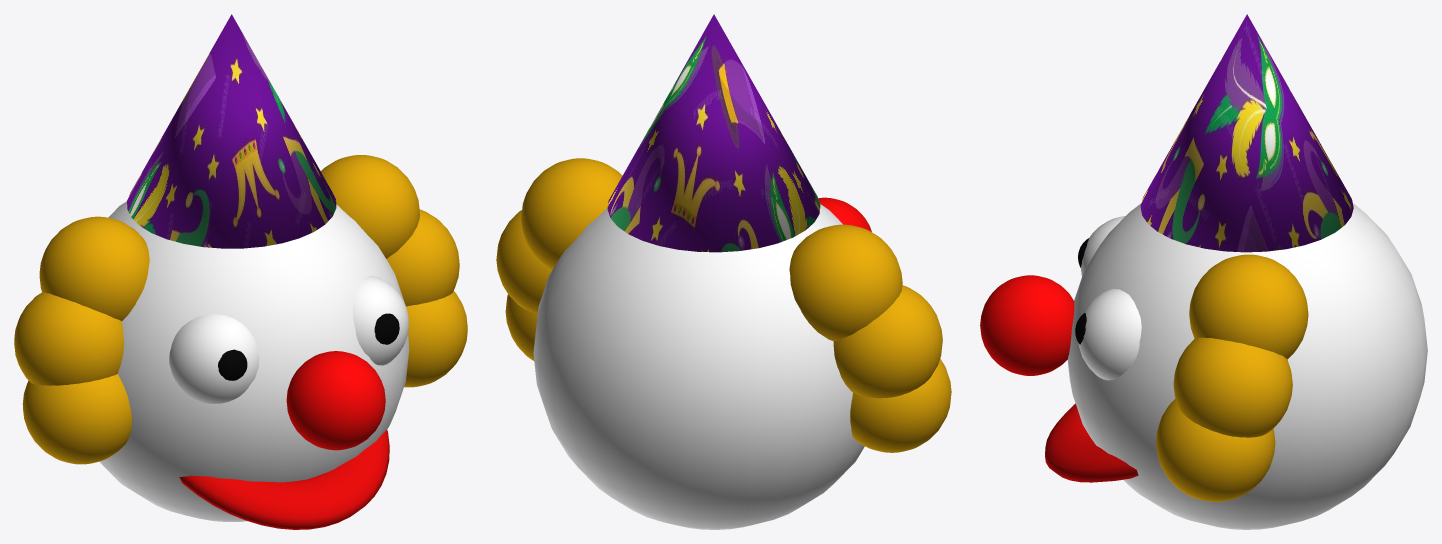
File: clown.gltf
The picture shows the model from 3 angles, left to right: view 1: azimuth 30°, elevation 25°; view 2: azimuth 150°, elevation 25°; view 3: azimuth 270°, elevation 25°; orthographic projection.
Visible parts, largest first — view 1: Sphere, Hat, Torus003, Sphere003, Sphere006, Sphere005, Sphere009, Sphere004, Sphere001, Sphere007, Sphere008, Sphere002 (+2 smaller); view 2: Sphere, Hat, Sphere003, Sphere006, Sphere004, Sphere009, Sphere007, Sphere008, Sphere005; view 3: Sphere, Hat, Sphere007, Sphere004, Sphere005, Sphere008, Sphere002, Torus003, Sphere001.
Boxes of the visible parts, <box> form: Sphere: <box>99,201,409,521</box>; Hat: <box>127,14,336,248</box>; Torus003: <box>179,430,389,529</box>; Sphere003: <box>39,216,149,321</box>; Sphere006: <box>14,292,123,385</box>; Sphere005: <box>286,351,385,450</box>; Sphere009: <box>22,374,131,464</box>; Sphere004: <box>321,155,419,258</box>; Sphere001: <box>169,314,259,403</box>; Sphere007: <box>386,209,459,306</box>; Sphere008: <box>404,291,467,387</box>; Sphere002: <box>352,276,408,365</box>; Sphere: <box>533,204,864,529</box>; Hat: <box>607,14,820,252</box>; Sphere003: <box>789,224,902,341</box>; Sphere006: <box>833,285,942,398</box>; Sphere004: <box>521,158,622,269</box>; Sphere009: <box>850,358,951,452</box>; Sphere007: <box>496,210,552,313</box>; Sphere008: <box>505,294,537,360</box>; Sphere005: <box>818,197,871,231</box>; Sphere: <box>1067,203,1427,529</box>; Hat: <box>1140,14,1353,252</box>; Sphere007: <box>1173,337,1292,437</box>; Sphere004: <box>1189,254,1308,359</box>; Sphere005: <box>980,275,1074,375</box>; Sphere008: <box>1156,399,1275,501</box>; Sphere002: <box>1078,289,1141,380</box>; Torus003: <box>1045,403,1138,482</box>; Sphere001: <box>1080,216,1125,276</box>.
Size of the model in its own units: 2.77 by 3.05 by 2.48.
Materials: 13 (1 with a texture image).
